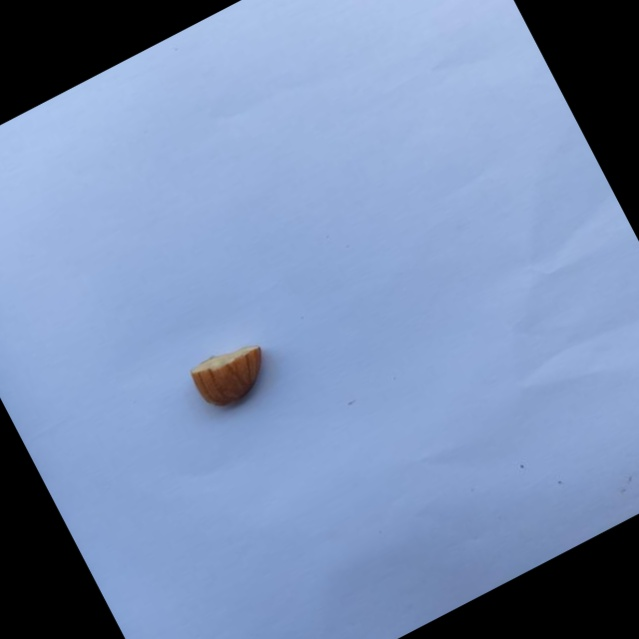grade4: (179, 327, 288, 425)
